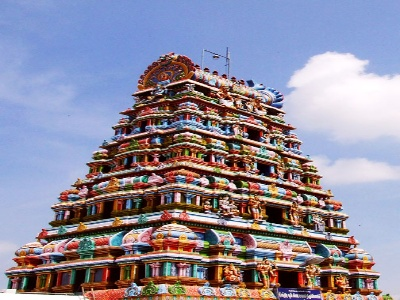gopura: (33, 56, 381, 283)
